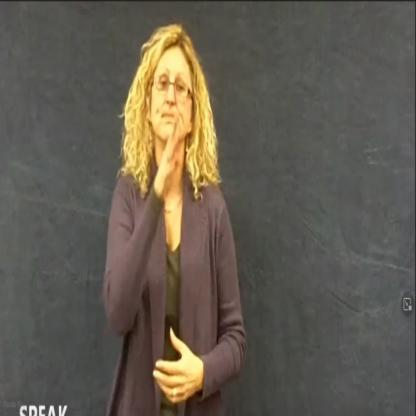Talk: (104, 17, 249, 416)
